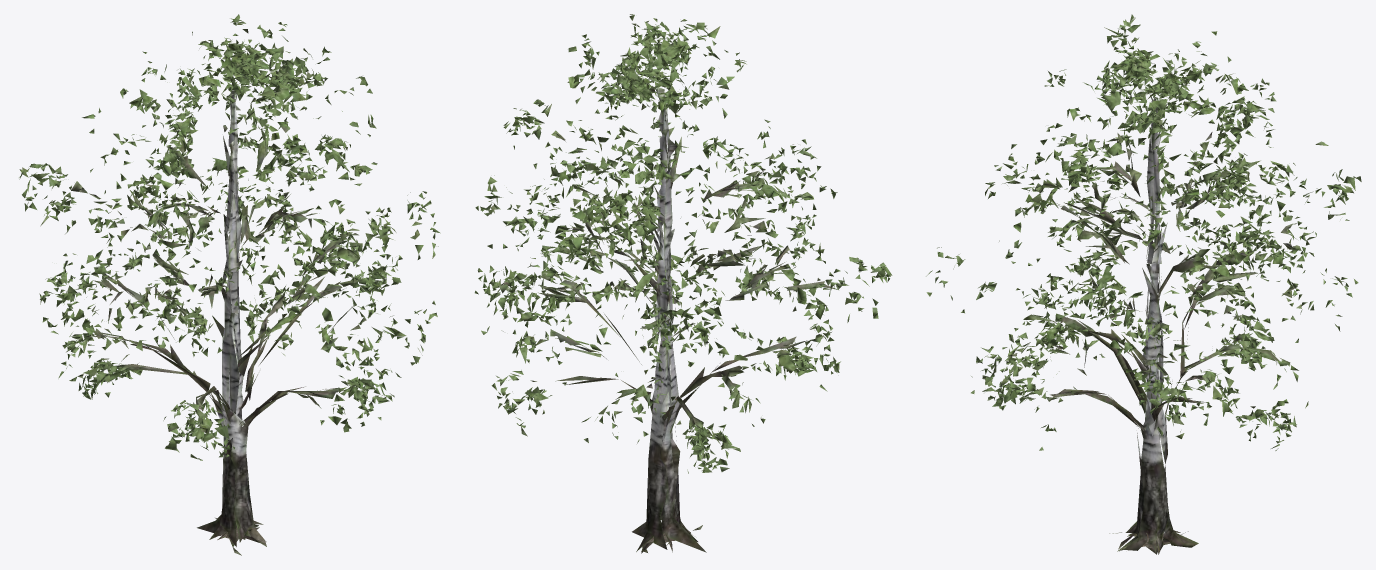
The model's file is betula_prateada_adulta.glb.
The picture shows the model from 3 angles, left to right: view 1: azimuth 30°, elevation 25°; view 2: azimuth 150°, elevation 25°; view 3: azimuth 270°, elevation 25°; orthographic projection.
Visible parts, largest first — view 1: geometry_0; view 2: geometry_0; view 3: geometry_0.
Part boxes in pixels (box(x1,y1,x2,y2)): geometry_0: box(19, 14, 440, 555); geometry_0: box(474, 14, 892, 553); geometry_0: box(926, 14, 1361, 554).
Bounding box in the file's own units: 0.7895 × 0.9991 × 0.7681.
1 material, 1 textured.
